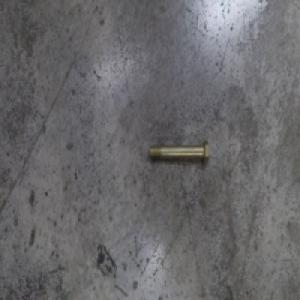Bolt: (147, 137, 211, 164)
